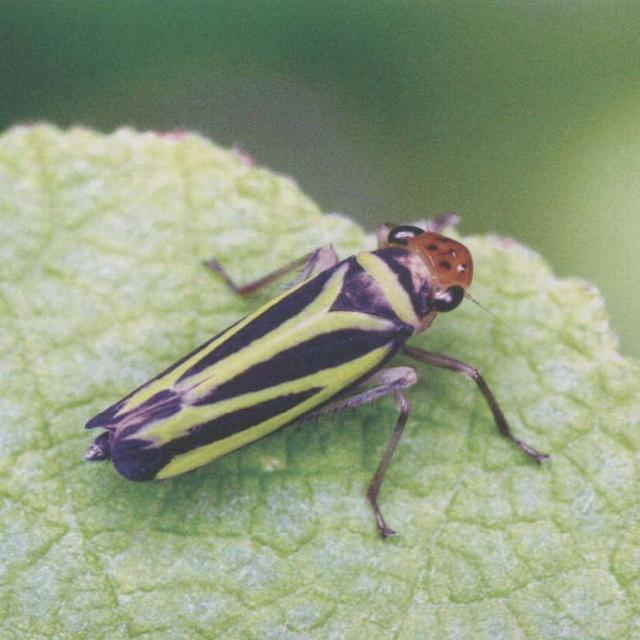Yechan: (74, 217, 511, 481)
